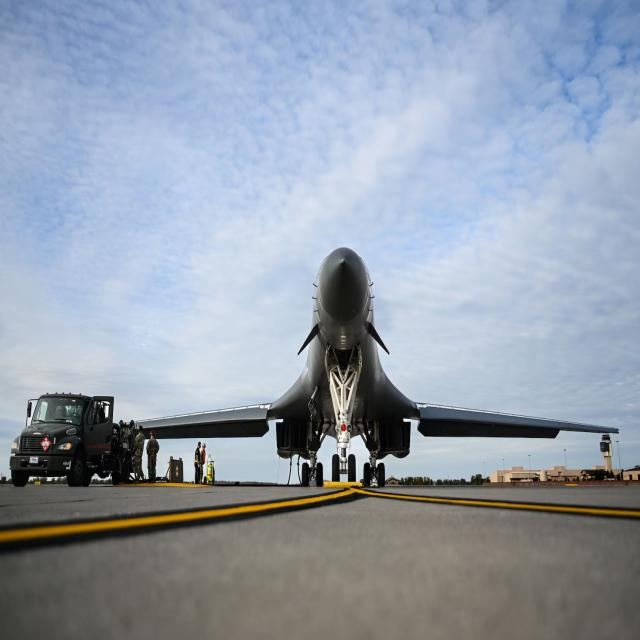B1: (121, 236, 635, 520)
